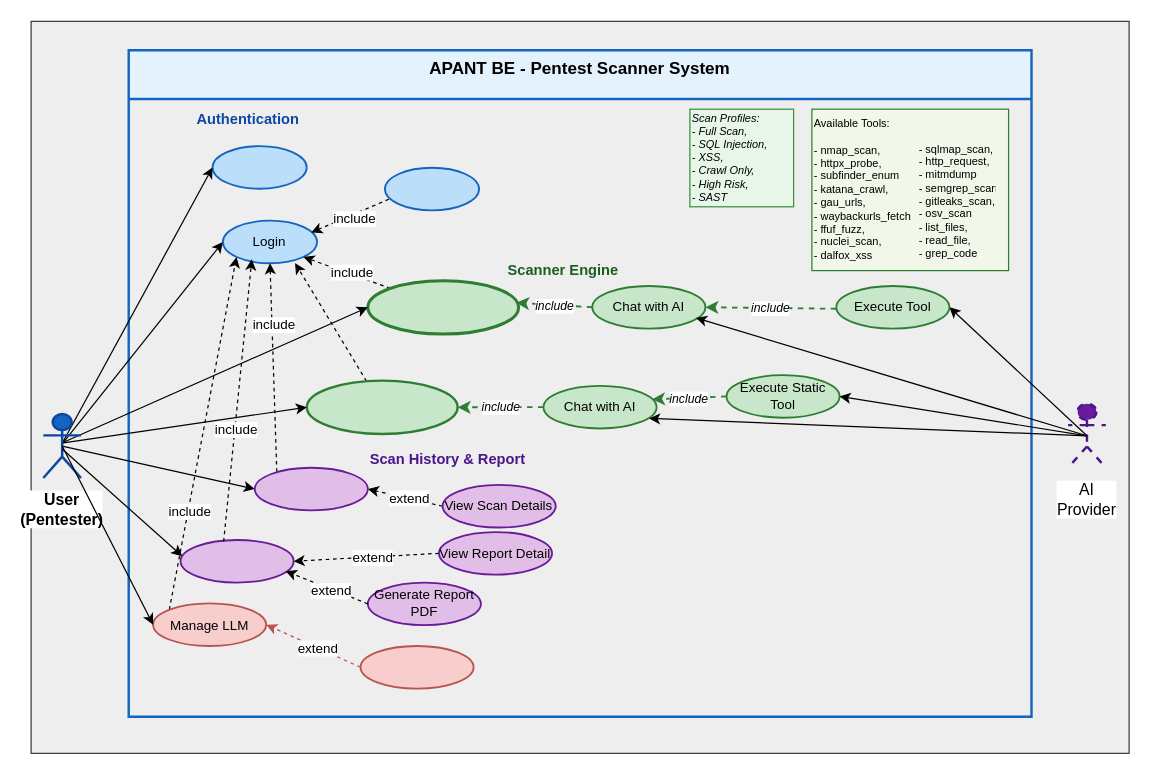
Some shapes in this 1152 by 775 pixel diagram are drawn without their labels. Each missing label, with the centre of its shape:
Logout: the point at 431,188
Register: the point at 259,167
Run Dynamic Scan (Agent Loop): the point at 443,307
Run Static Scan (SAST): the point at 381,407
Select LLM: the point at 416,667
View Report List: the point at 236,561
View Scan History: the point at 310,488
